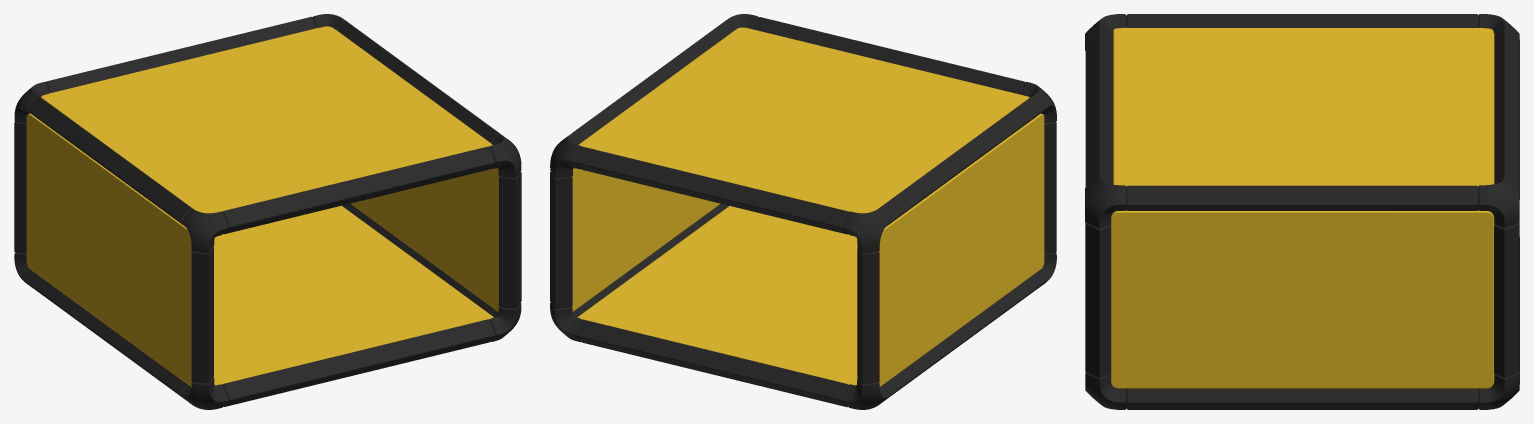
The picture shows the model from 3 angles, left to right: view 1: azimuth 30°, elevation 25°; view 2: azimuth 150°, elevation 25°; view 3: azimuth 270°, elevation 25°; orthographic projection. The views are drawn at different scales.
Visible parts, largest first — view 1: 329x329x154; view 2: 329x329x154; view 3: 329x329x154.
Boxes of the visible parts, left/top/right/bottom form: 329x329x154: left=14, top=14, right=521, bottom=409; 329x329x154: left=550, top=14, right=1056, bottom=409; 329x329x154: left=1085, top=14, right=1519, bottom=409.
Bounding box in the file's own units: 0.4067 × 0.2316 × 0.4063.
